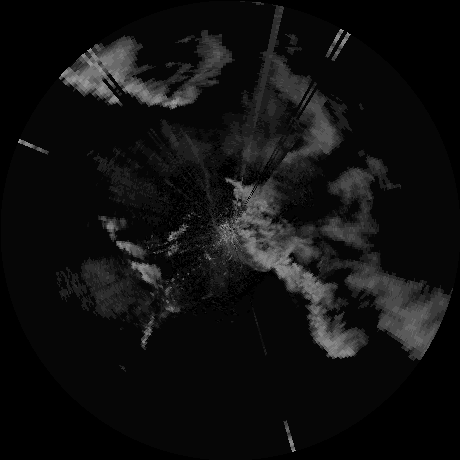frontgust: (178, 130, 222, 229)
